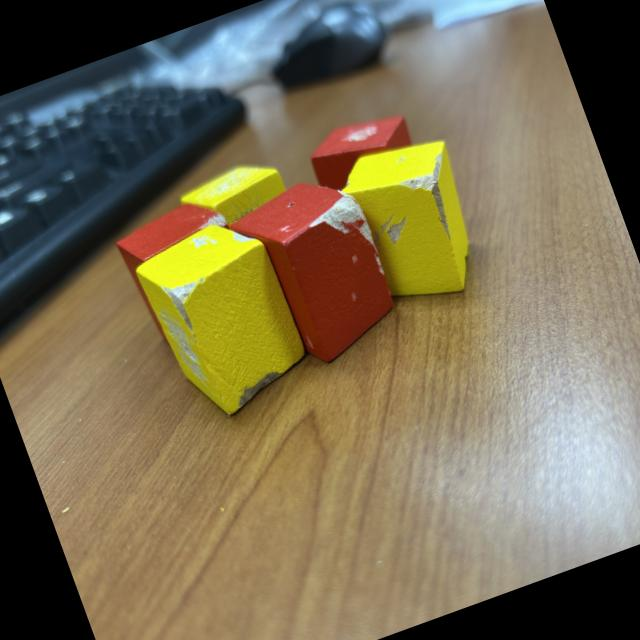broken: (130, 208, 320, 430), (224, 166, 410, 378), (320, 128, 497, 324), (111, 192, 265, 360), (302, 106, 444, 263), (174, 153, 316, 304)
